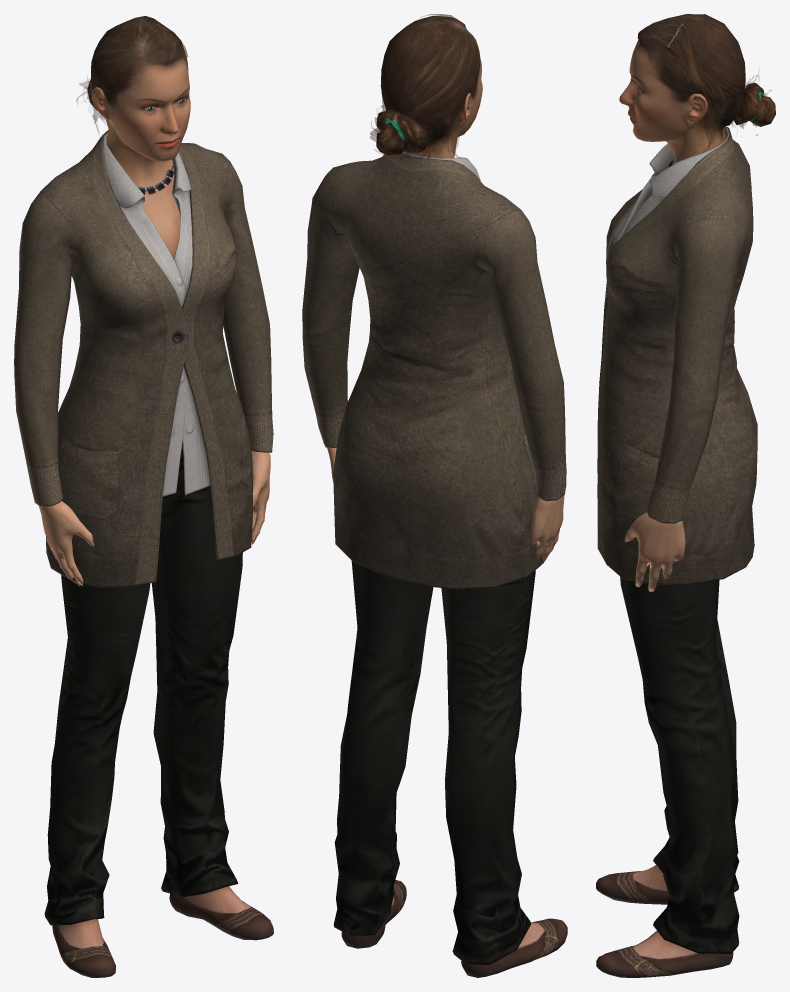
Rendered from female-adult-09.glb.
The picture shows the model from 3 angles, left to right: view 1: azimuth 30°, elevation 25°; view 2: azimuth 150°, elevation 25°; view 3: azimuth 270°, elevation 25°; orthographic projection. The views are drawn at different scales.
Visible parts, largest first — view 1: f009_hipoly_81_bones_opacity; view 2: f009_hipoly_81_bones_opacity; view 3: f009_hipoly_81_bones_opacity.
Part boxes in pixels (<box>): f009_hipoly_81_bones_opacity: <box>14,16,273,977</box>; f009_hipoly_81_bones_opacity: <box>302,14,567,977</box>; f009_hipoly_81_bones_opacity: <box>596,14,775,977</box>.
Bounding box in the file's own units: 0.4871 × 1.7 × 0.302.
3 materials, 3 textured.
